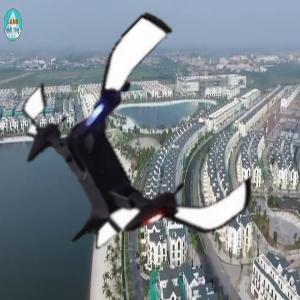drone: (16, 30, 264, 278)
